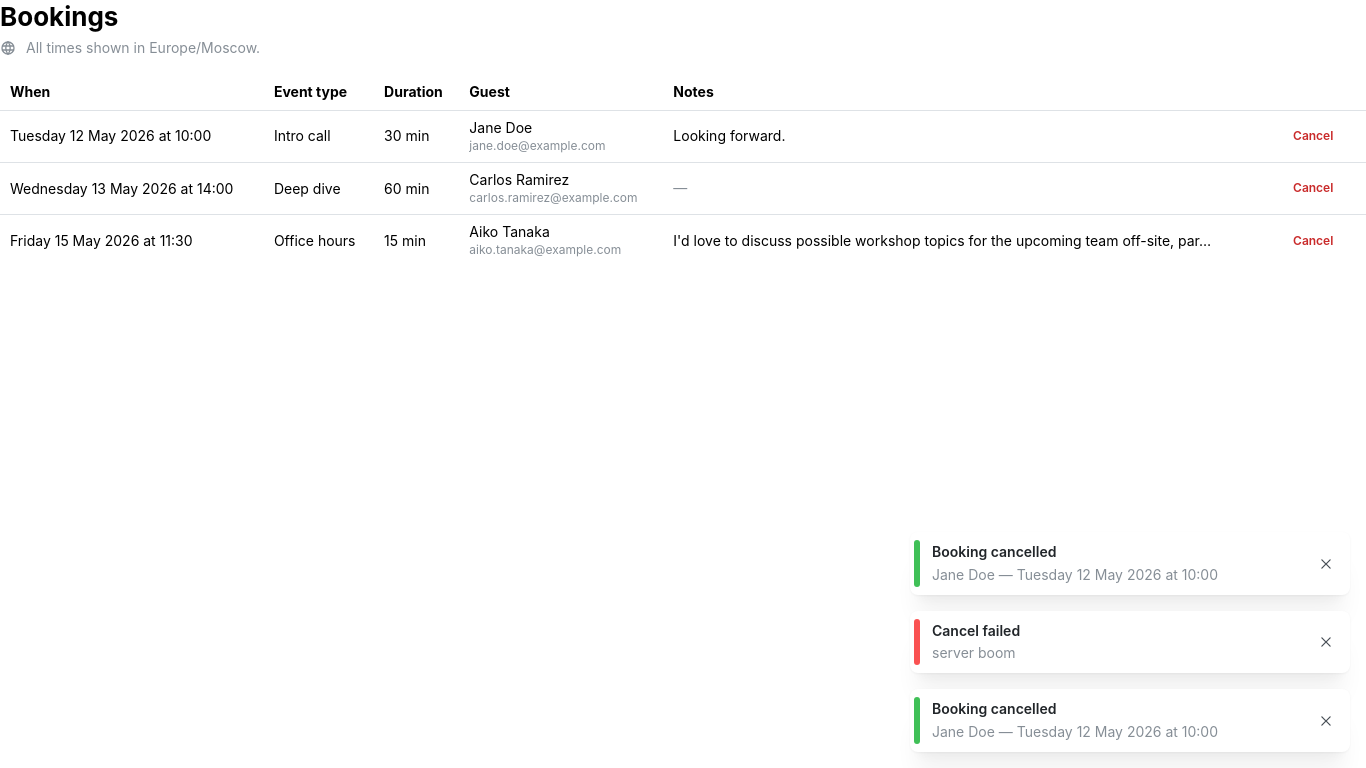
it: BookingsPage › treats a 404 cancel as a benign race ("Already cancelled")
The image size is (1366, 768).
Click the button with aria-label "cancel intro call with jane doe" at coordinates (1313, 136), box [1278,121,1348,151]
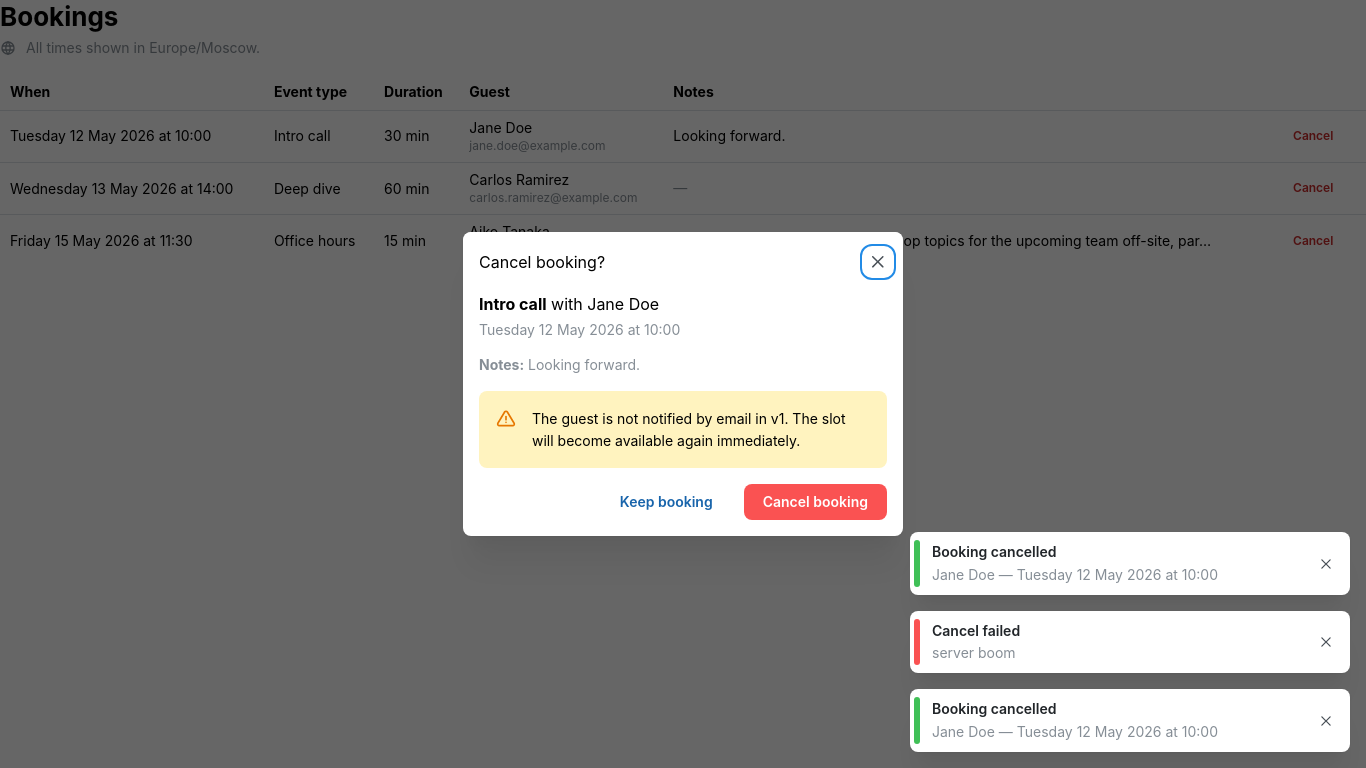
Click the button "Cancel booking" at coordinates (815, 502), box [744,484,887,520]
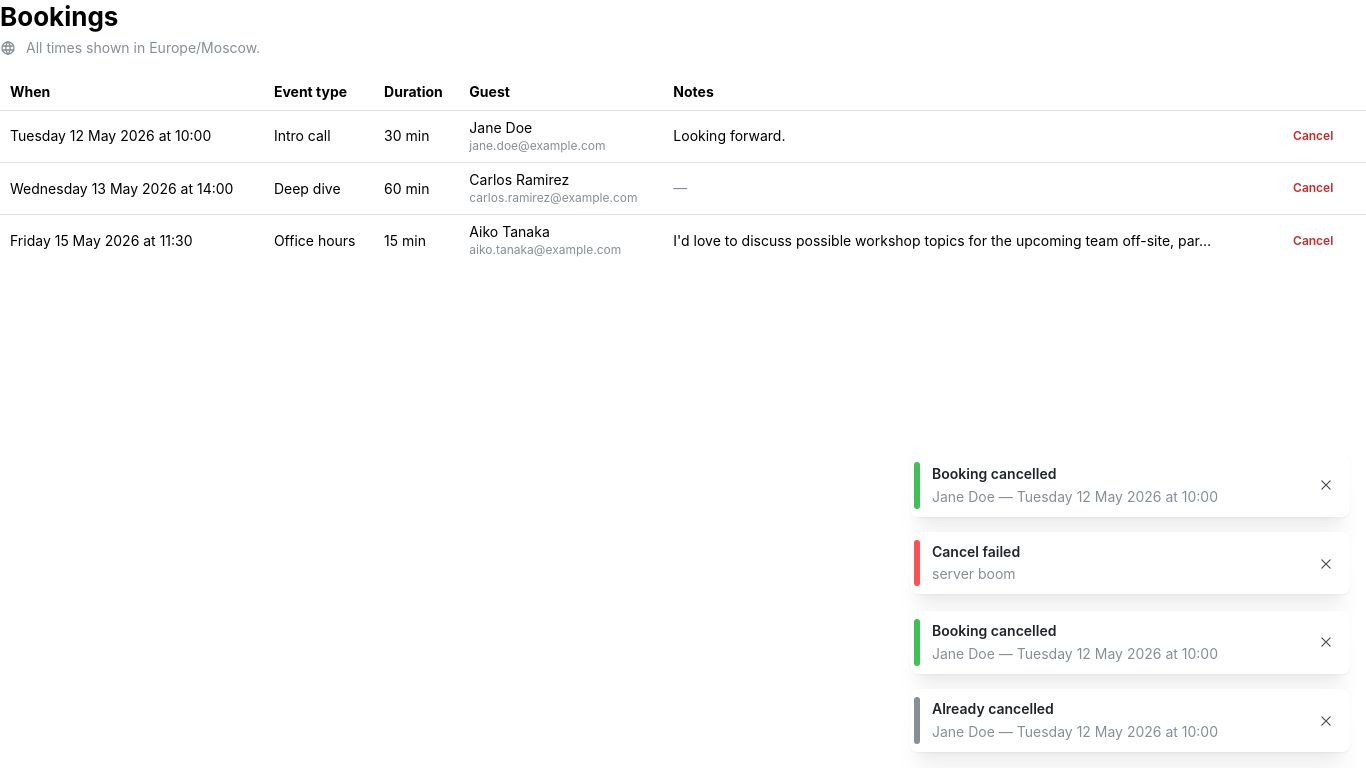
Result: the text "Already cancelled" is shown at [932,700,1054,717]
